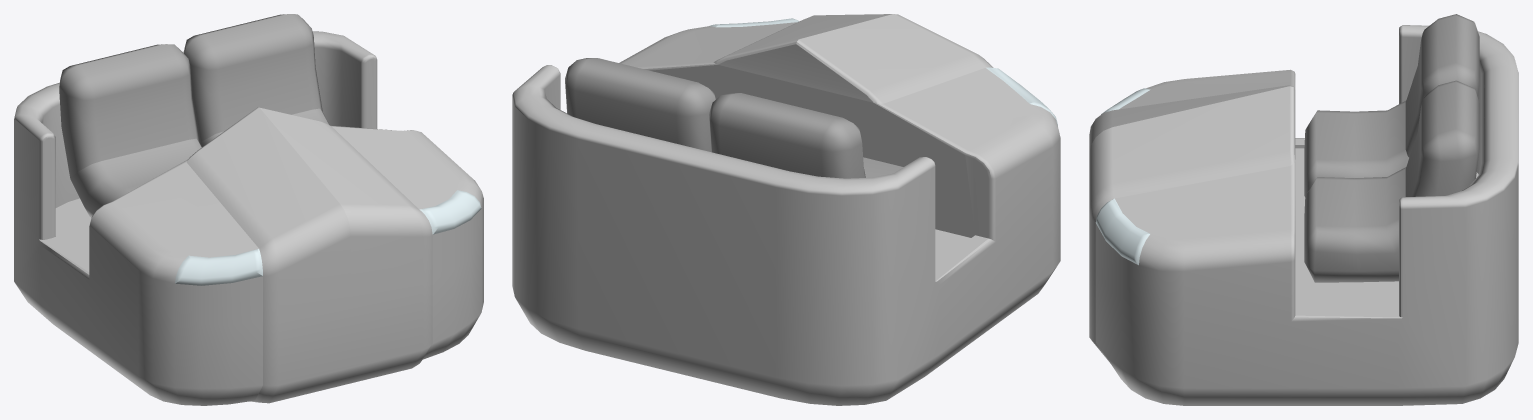
Rendered from Wegan Head.fbx.
The picture shows the model from 3 angles, left to right: view 1: azimuth 30°, elevation 25°; view 2: azimuth 150°, elevation 25°; view 3: azimuth 270°, elevation 25°; orthographic projection. The views are drawn at different scales.
Parts seen in each view (by area): view 1: Wegan_Head_3rd_Option; view 2: Wegan_Head_3rd_Option; view 3: Wegan_Head_3rd_Option.
Boxes of the visible parts, x1,y1,x2,y2 form: Wegan_Head_3rd_Option: (14, 14, 483, 405); Wegan_Head_3rd_Option: (512, 14, 1060, 405); Wegan_Head_3rd_Option: (1089, 14, 1518, 405).
Bounding box in the file's own units: 100 × 68.19 × 100.
